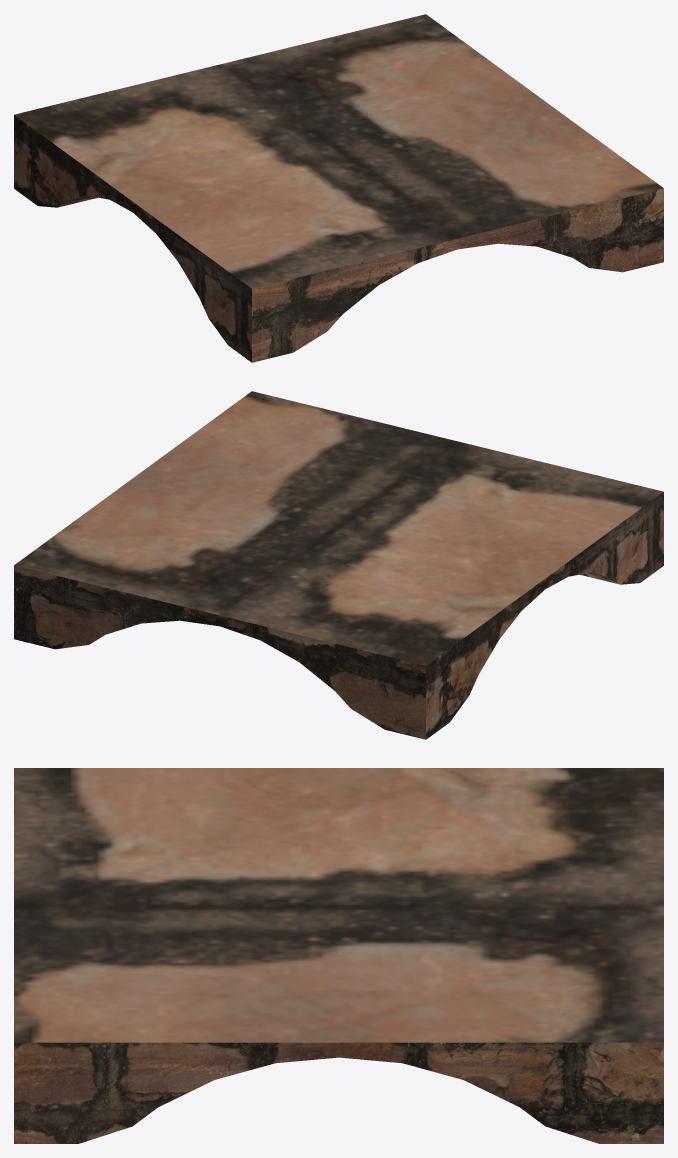
The model's file is Roof.fbx.
3 renders of one model, top to bottom at view 1: azimuth 30°, elevation 25°; view 2: azimuth 150°, elevation 25°; view 3: azimuth 270°, elevation 25°, orthographic. The views are drawn at different scales.
Parts seen in each view (by area): view 1: Cube.005; view 2: Cube.005; view 3: Cube.005.
Part boxes in pixels (x1,y1,x2,y2): Cube.005: [14, 14, 663, 362]; Cube.005: [14, 391, 663, 739]; Cube.005: [14, 768, 663, 1143].
Size of the model in its own units: 4 by 0.6861 by 4.
